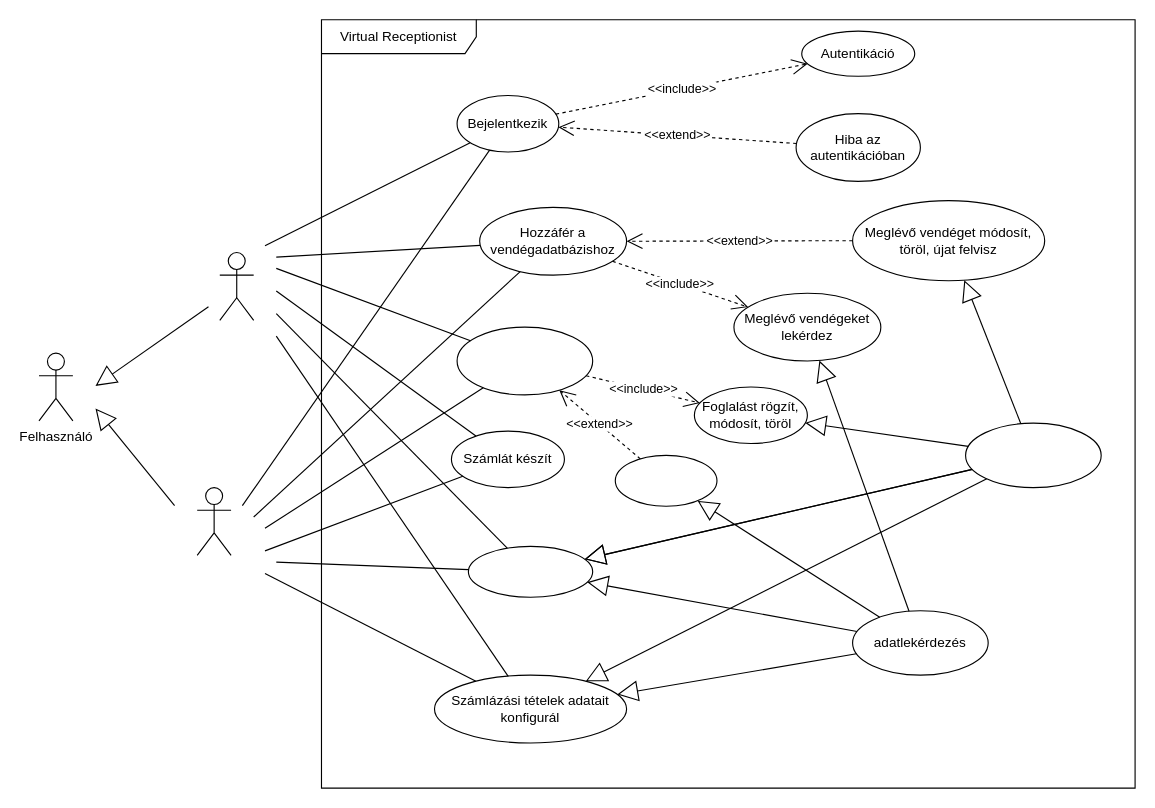
The diagram is 1155 pixels wide and 808 high, and some of its shapes have lost their labels. Each missing label, with the centre of its shape:
adat manipuláció: the point at 1032,455
Foglalásokat listáz: the point at 665,480
Menedzser: the point at 213,520
Recepciós: the point at 236,285
Szoba adatokat konfigurál: the point at 530,571
Vendég érkezését rögzíti: the point at 524,360
